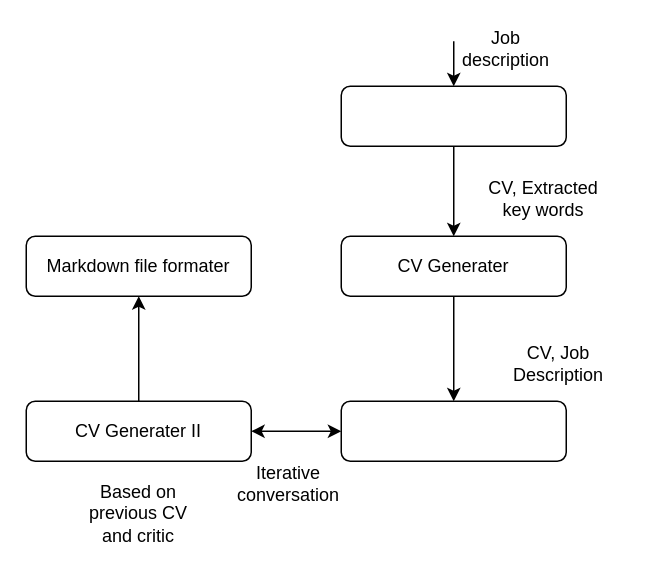
Some shapes in this 653 by 572 pixel diagram are drawn without their labels. Each missing label, with the centre of its shape:
"Critic" goes at (453,430).
"Keywords extractor" goes at (453,115).
